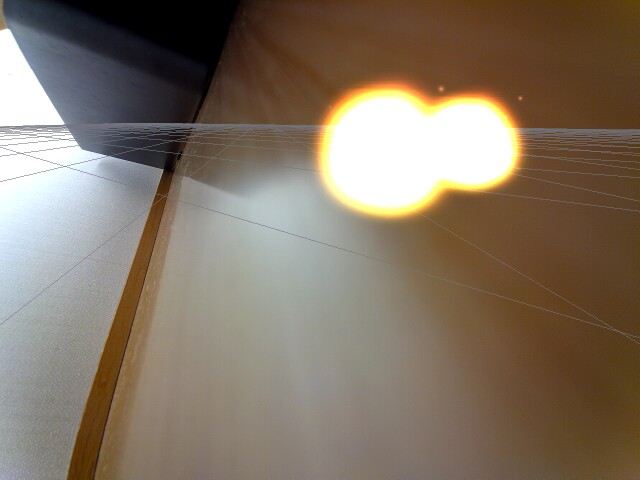firebig: (307, 75, 442, 218)
